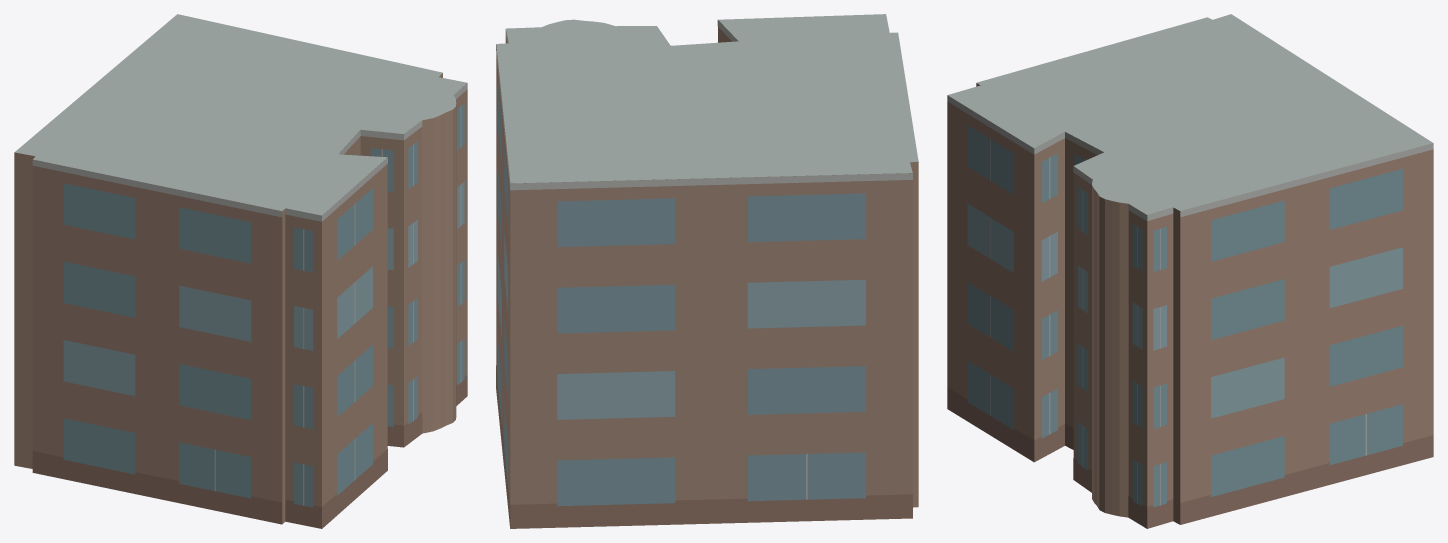
File: survey-upis-33043552.glb
The picture shows the model from 3 angles, left to right: view 1: azimuth 30°, elevation 25°; view 2: azimuth 150°, elevation 25°; view 3: azimuth 270°, elevation 25°; orthographic projection. The views are drawn at different scales.
Parts seen in each view (by area): view 1: survey-upis-33043552.tmp; view 2: survey-upis-33043552.tmp; view 3: survey-upis-33043552.tmp.
Boxes of the visible parts, x1,y1,x2,y2 form: survey-upis-33043552.tmp: (14,14,467,528); survey-upis-33043552.tmp: (496,14,918,528); survey-upis-33043552.tmp: (947,14,1433,528).
Bounding box in the file's own units: 16.91 × 12.3 × 17.28.
